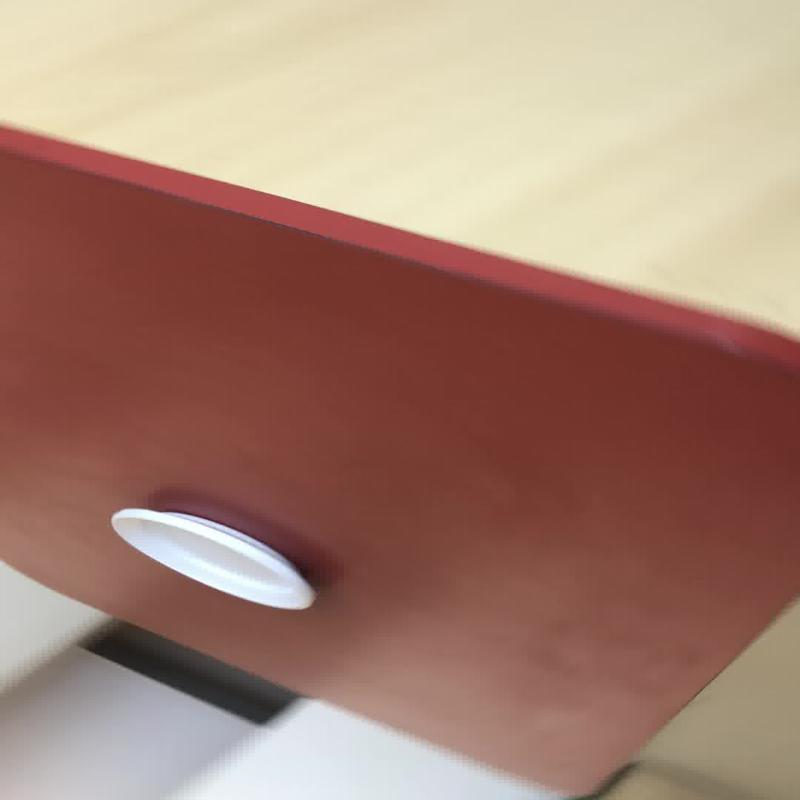plate: (0, 118, 796, 798), (108, 506, 316, 610)
